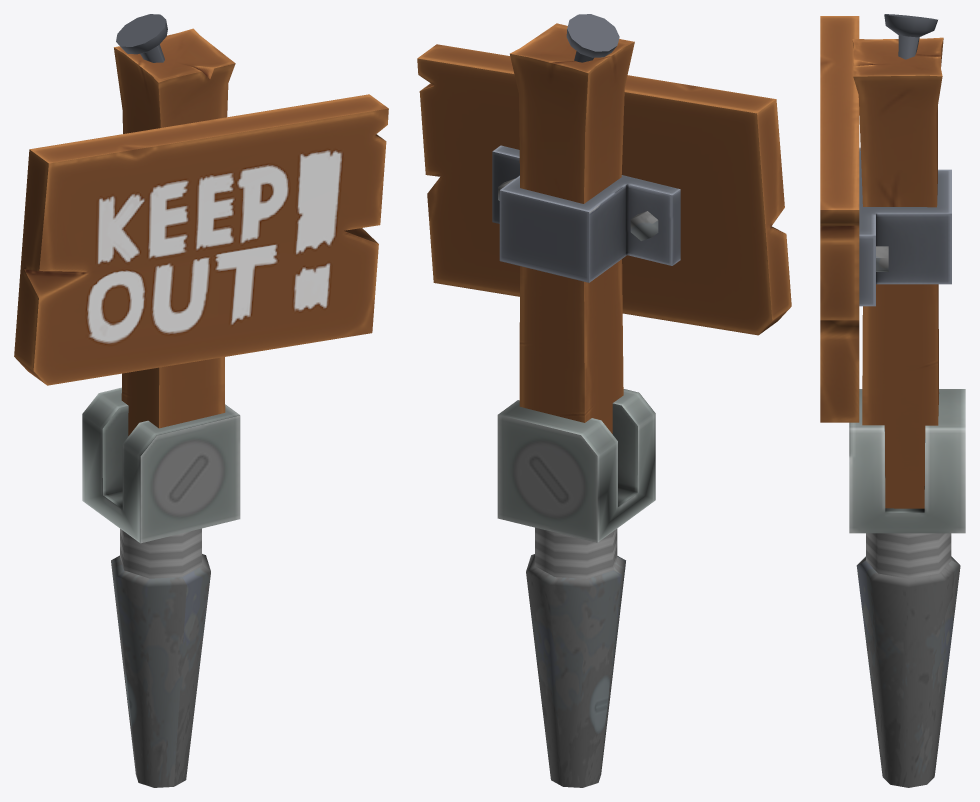
The model's file is hvs_hideout_sign04.fbx.
The picture shows the model from 3 angles, left to right: view 1: azimuth 30°, elevation 25°; view 2: azimuth 150°, elevation 25°; view 3: azimuth 270°, elevation 25°; orthographic projection.
Parts seen in each view (by area): view 1: hvs_hideout_sign04; view 2: hvs_hideout_sign04; view 3: hvs_hideout_sign04.
Boxes of the visible parts, box(x1,y1,x2,y2) form: hvs_hideout_sign04: box(14, 14, 388, 787); hvs_hideout_sign04: box(417, 14, 791, 787); hvs_hideout_sign04: box(820, 14, 965, 787).
Size of the model in its own units: 3.15 by 6.44 by 1.12.
1 material, 1 textured.
